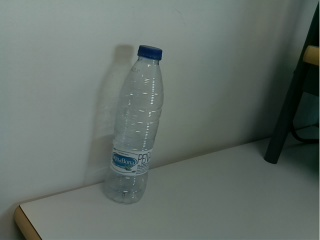botella plastico: (100, 42, 168, 207)
